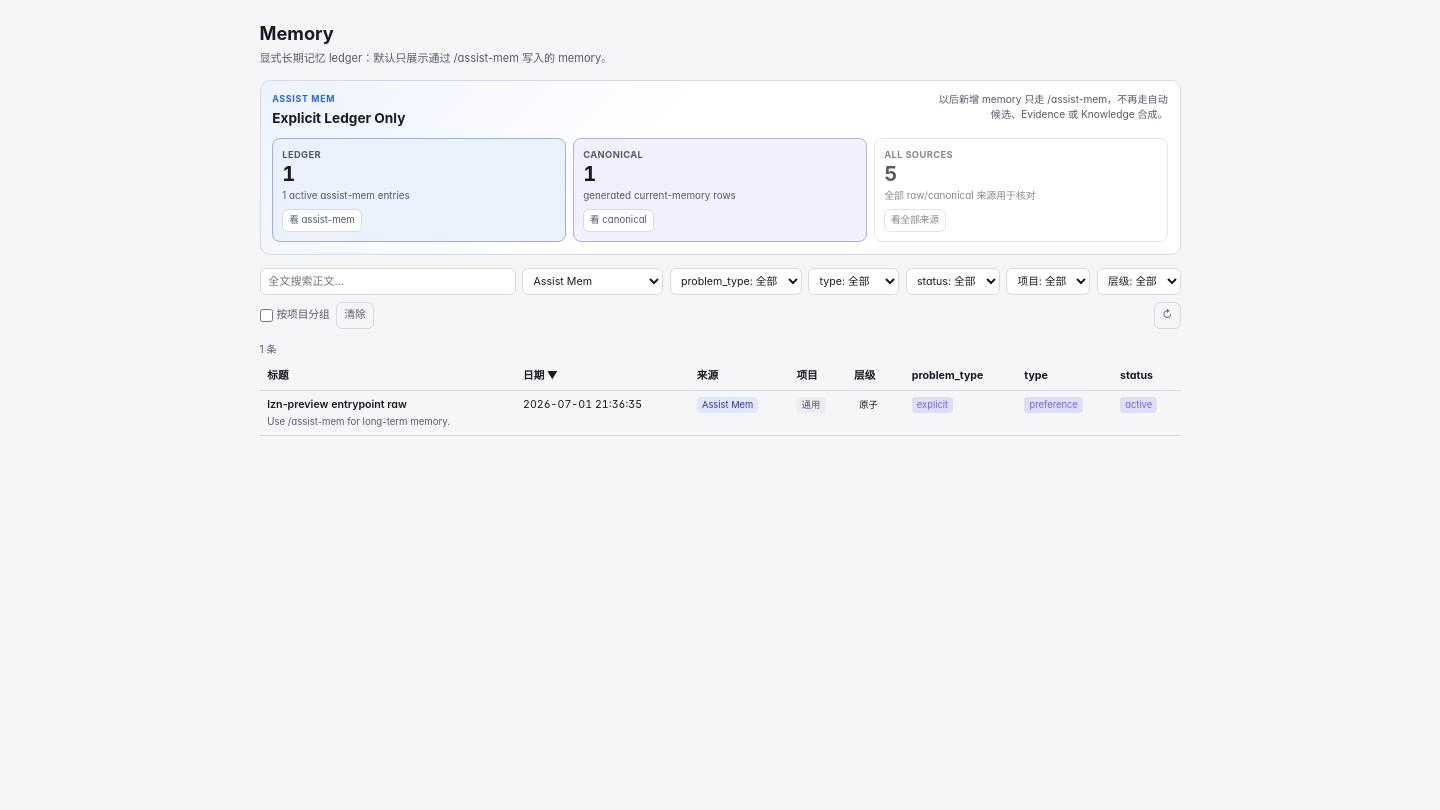
Test: MemoryPage › opens canonical detail with covered raw refs and provenance metadata
This screenshot has width=1440, height=810.
Click the button "看 canonical". click: x=618, y=220
box: [583,209,654,232]
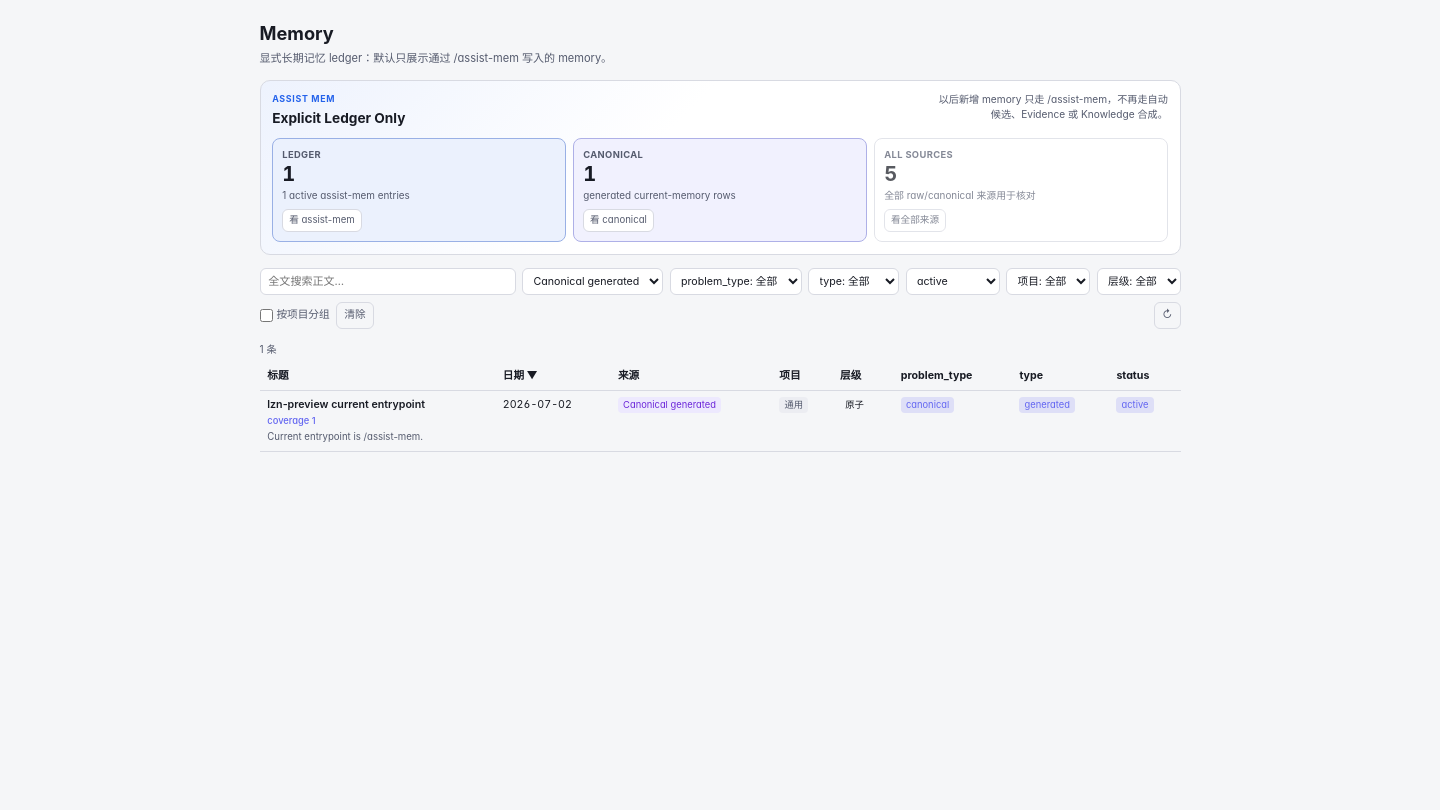
Click the row with class "clickable". click: x=720, y=421
box: [260,390,1180,451]
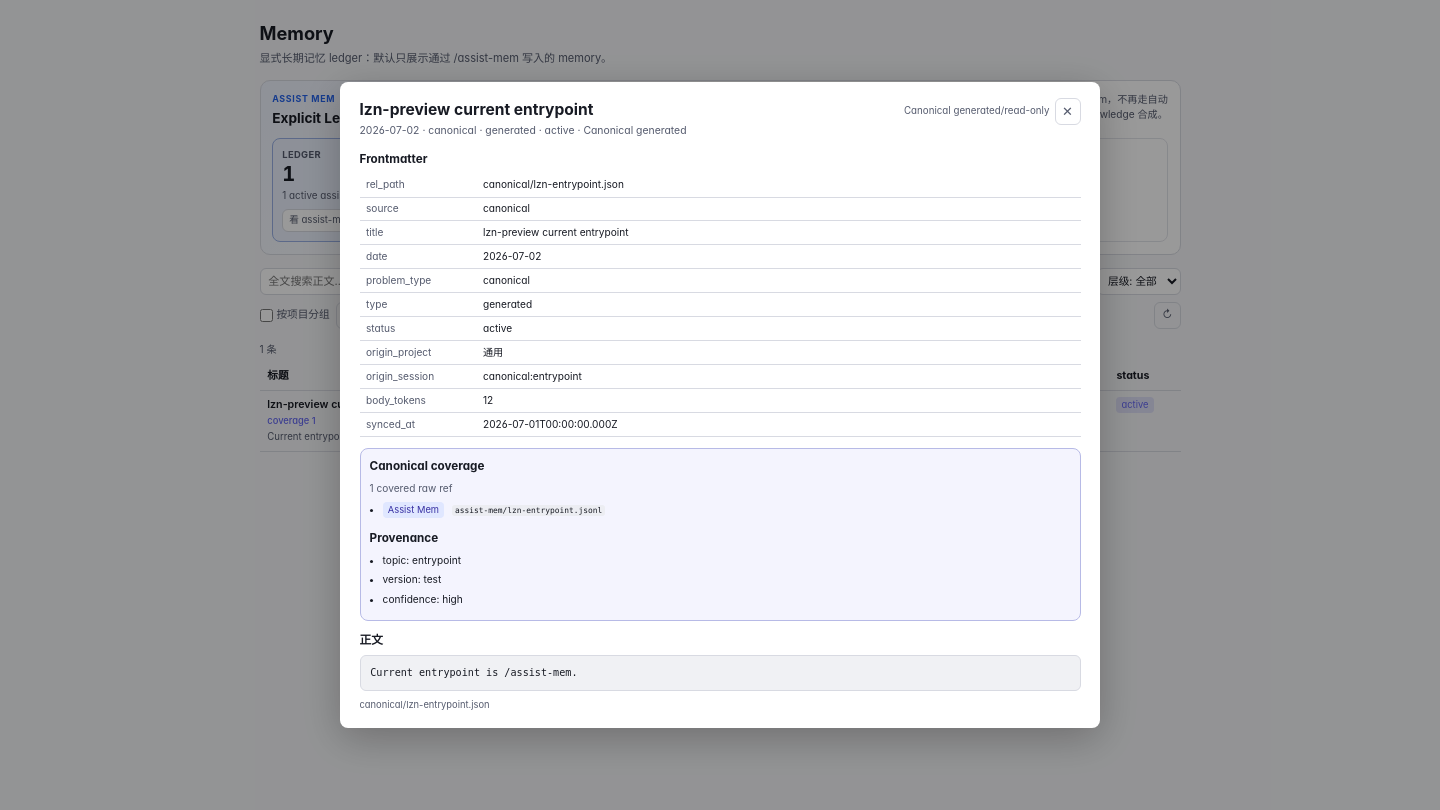
Expected: the text "Canonical coverage" is shown, [370,459,484,473]
Expected: the text "1 covered raw ref" is shown, [370,482,452,494]
Expected: the text "assist-mem/lzn-entrypoint.jsonl" is shown, [452,505,605,516]
